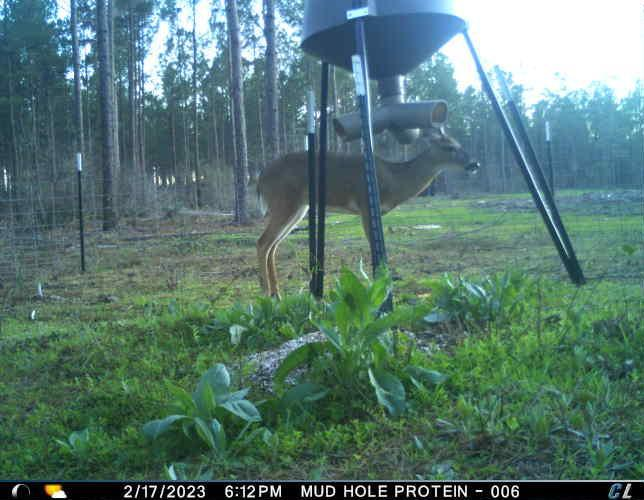Deer: (261, 127, 481, 303)
